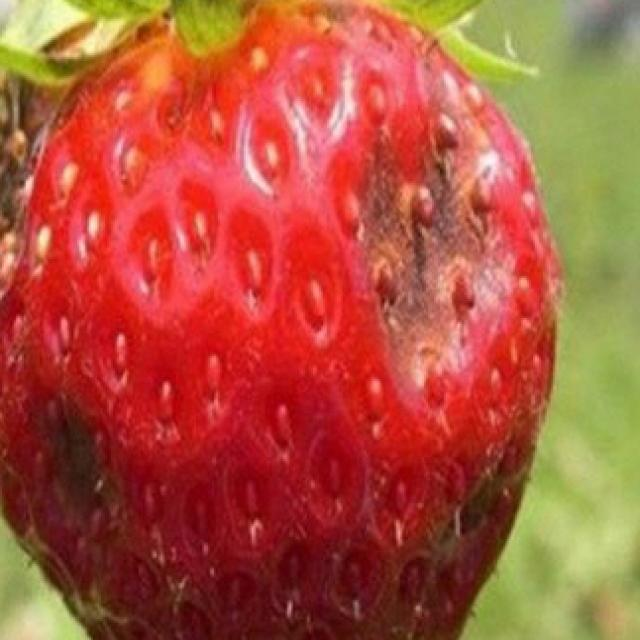Anthracnose Fruit Rot: (0, 0, 526, 556)
